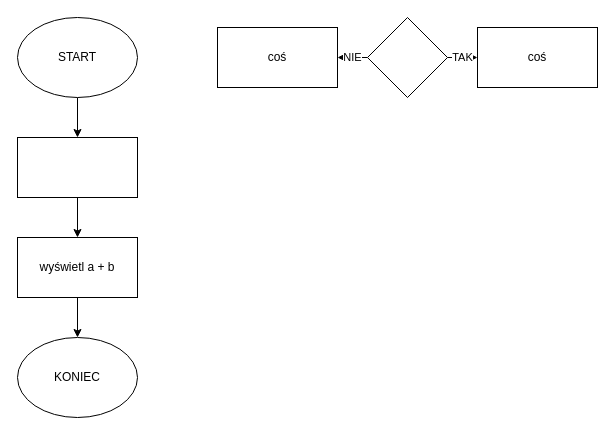
Some shapes in this 615 by 435 pixel diagram are drawn without their labels. Here are the shapes that lost their labels. From the top down, the centre of each, then its label:
the point at 407,57: b < 3
the point at 77,167: pobierz wartość a ustaw b = 2
